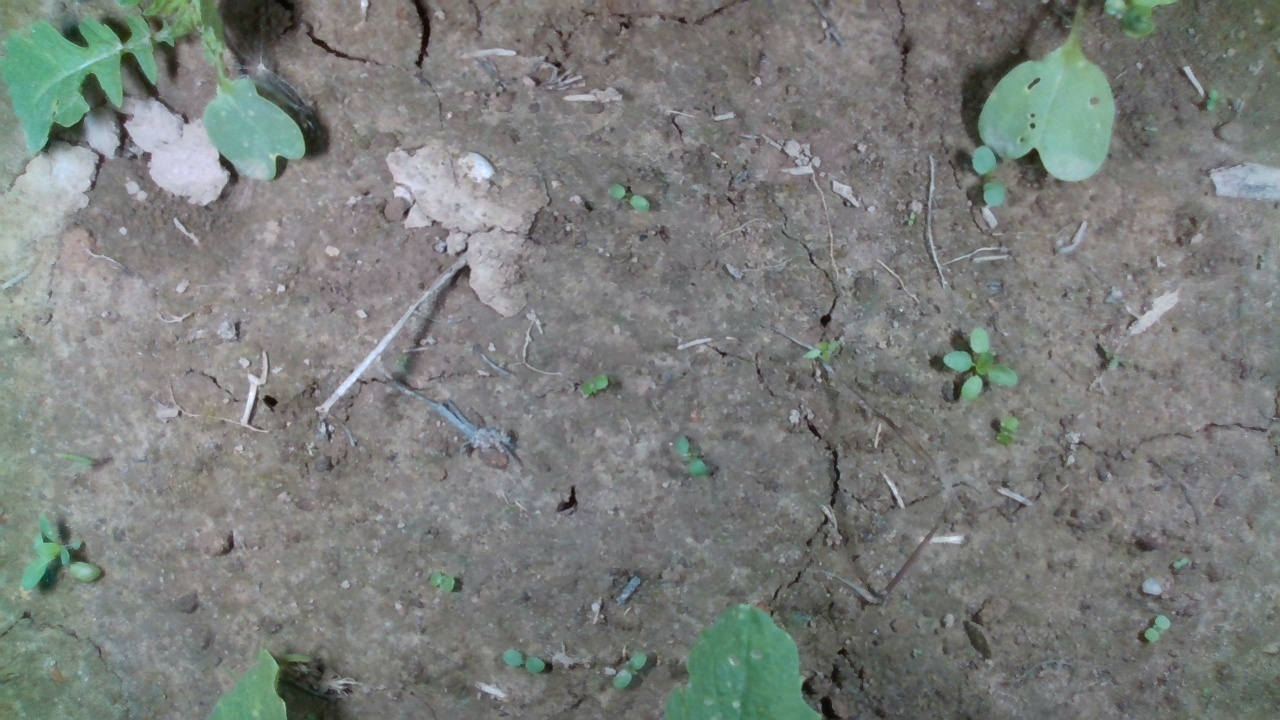weed: (937, 324, 1020, 403), (669, 433, 708, 477), (612, 651, 647, 690), (607, 184, 651, 212), (500, 649, 546, 674), (994, 413, 1020, 448), (1143, 612, 1171, 644), (579, 373, 609, 395), (428, 571, 456, 593), (1205, 87, 1219, 111), (1170, 555, 1190, 571), (906, 211, 916, 227)
